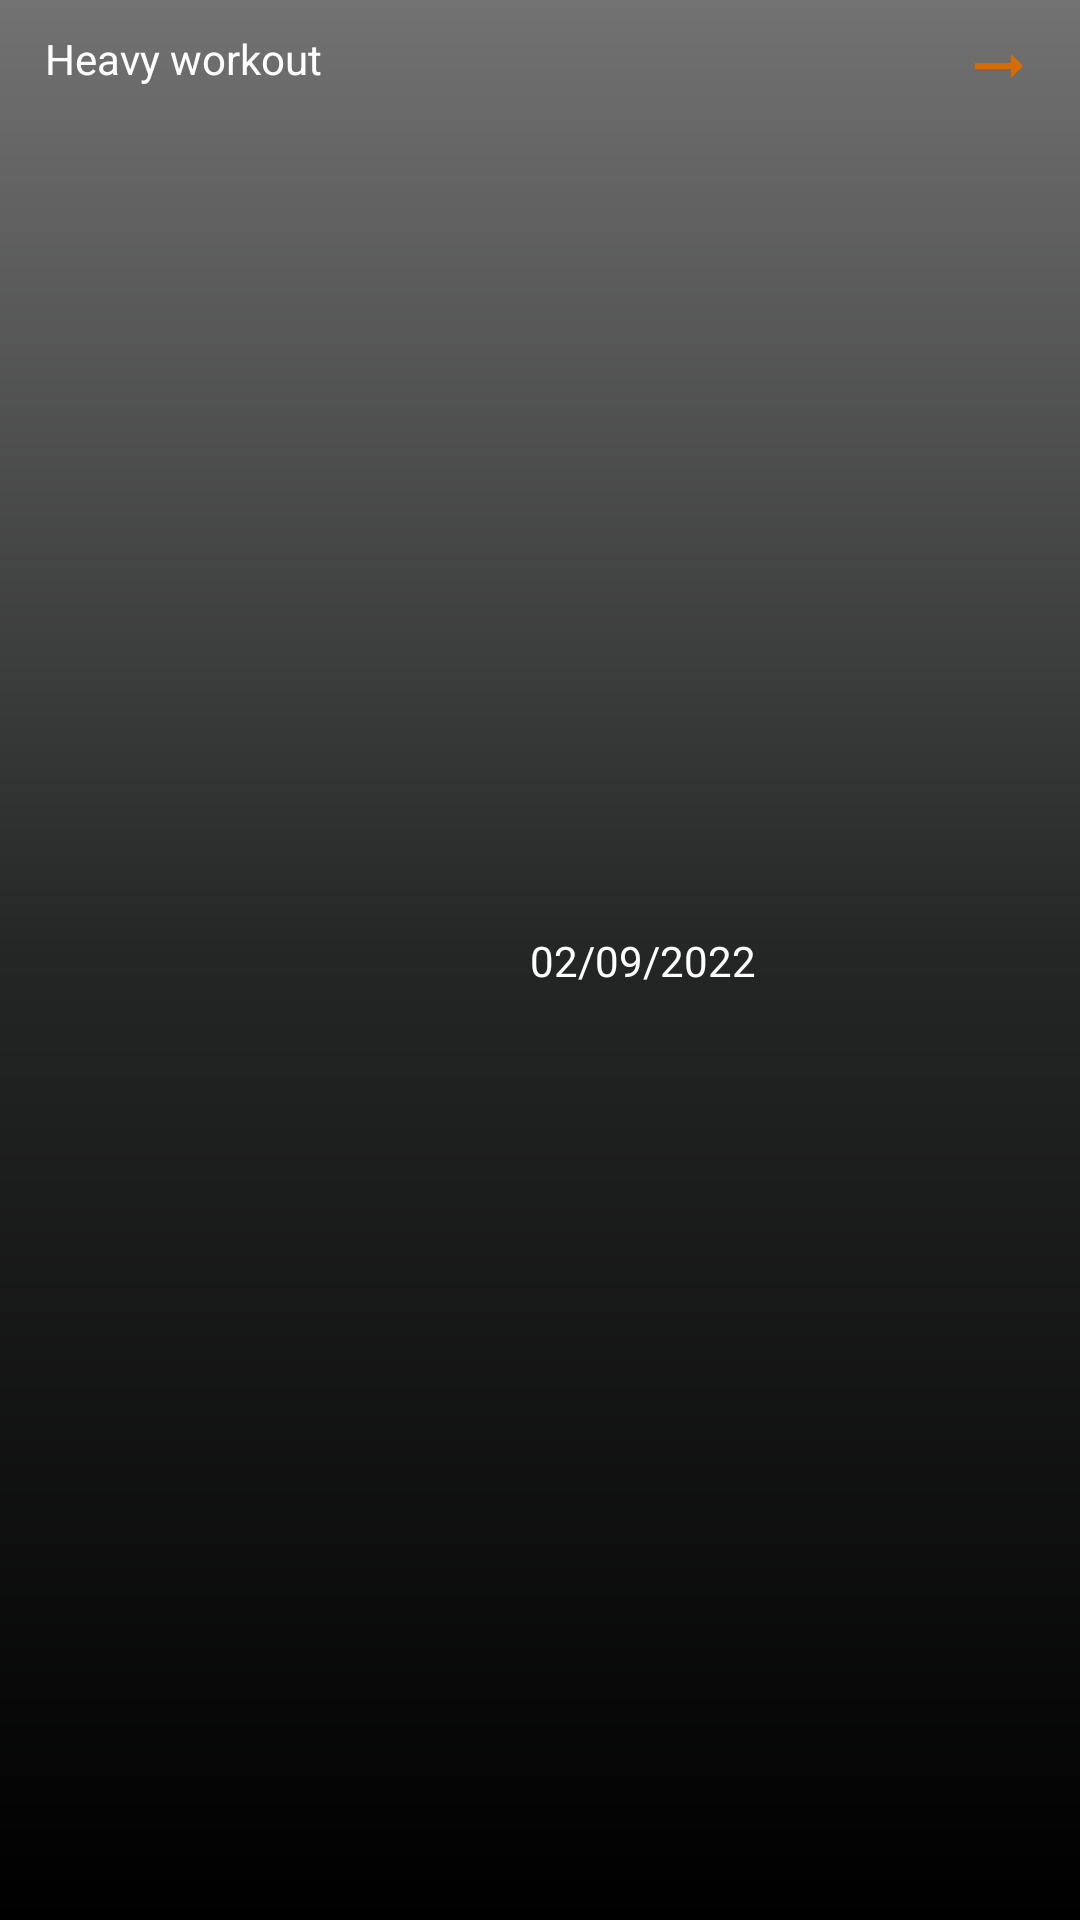

Where icons sit on this 1080x1920 app screen, as BBox(x1, y1, x2, y2):
arrow right: BBox(975, 54, 1023, 78)
